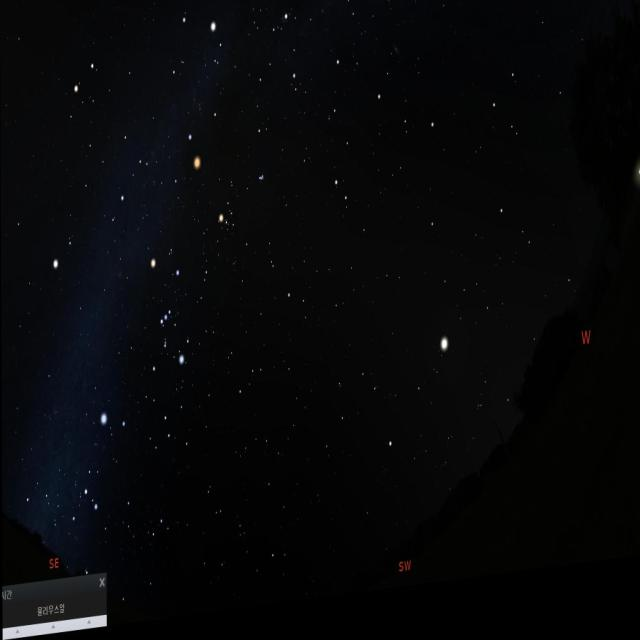canis_major: (76, 399, 132, 516)
canis_minor: (49, 227, 79, 279)
gemini: (64, 42, 158, 216)
orion: (144, 261, 188, 378)
pleiades: (253, 170, 268, 193)
taurus: (203, 150, 271, 264)
